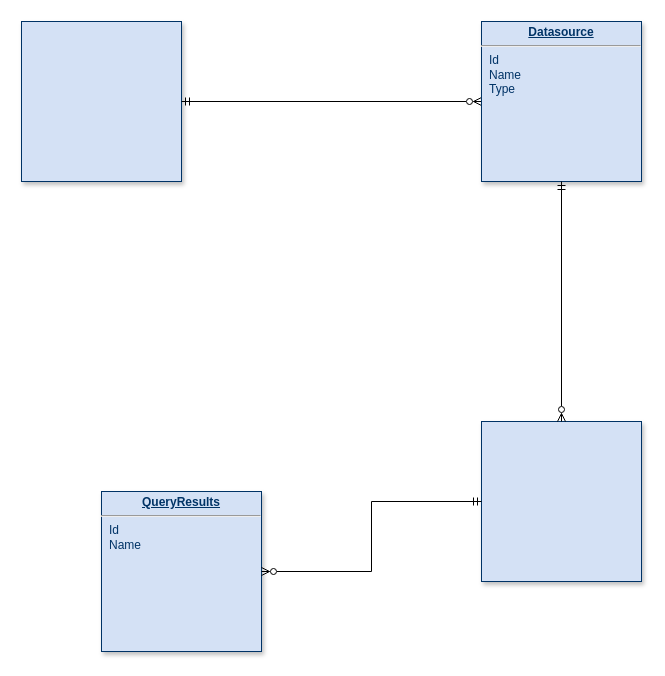
Some shapes in this 665 by 676 pixel diagram are drawn without their labels. The centre of each missing label's shape, as x and y in pixels:
Organization Id Slug Name DateCreated: the point at 102,102
Query Id Name: the point at 562,502
